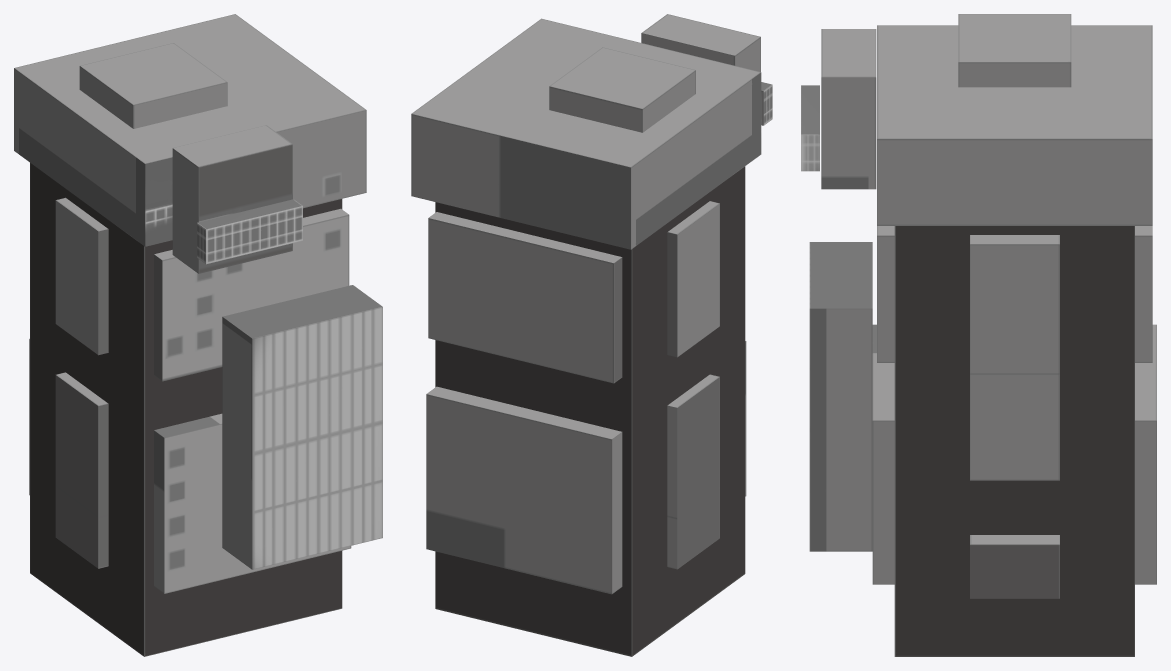
File: blok5.fbx
3 renders of one model, left to right at view 1: azimuth 30°, elevation 25°; view 2: azimuth 150°, elevation 25°; view 3: azimuth 270°, elevation 25°, orthographic. The views are drawn at different scales.
Parts seen in each view (by area): view 1: blok6:pCube1, blok6:pCube10, blok6:pCube4, blok6:pCube5, blok6:pCube6, blok6:pCube8, blok6:pCube3, blok6:pCube7, blok6:pCube2, blok6:pCube9; view 2: blok6:pCube1, blok6:pCube4, blok6:pCube6, blok6:pCube5, blok6:pCube3, blok6:pCube7, blok6:pCube2, blok6:pCube8; view 3: blok6:pCube1, blok6:pCube4, blok6:pCube2, blok6:pCube10, blok6:pCube6, blok6:pCube8, blok6:pCube7, blok6:pCube3, blok6:pCube5, blok6:pCube9.
Boxes of the visible parts, box(x1,y1,x2,y2) form: blok6:pCube1: box(30, 163, 342, 656); blok6:pCube10: box(222, 285, 382, 569); blok6:pCube4: box(14, 14, 366, 246); blok6:pCube5: box(154, 208, 349, 381); blok6:pCube6: box(29, 338, 351, 593); blok6:pCube8: box(172, 125, 292, 273); blok6:pCube3: box(55, 372, 108, 568); blok6:pCube7: box(79, 43, 227, 128); blok6:pCube2: box(55, 197, 108, 355); blok6:pCube9: box(197, 199, 302, 264); blok6:pCube1: box(435, 166, 745, 656); blok6:pCube4: box(411, 18, 761, 249); blok6:pCube6: box(426, 341, 746, 594); blok6:pCube5: box(428, 212, 622, 383); blok6:pCube3: box(667, 374, 719, 569); blok6:pCube7: box(549, 47, 695, 132); blok6:pCube2: box(667, 201, 719, 357); blok6:pCube8: box(641, 14, 760, 71); blok6:pCube1: box(894, 226, 1134, 656); blok6:pCube4: box(877, 25, 1152, 225); blok6:pCube2: box(970, 235, 1059, 480); blok6:pCube10: box(809, 242, 872, 551); blok6:pCube6: box(872, 324, 1156, 584); blok6:pCube8: box(821, 29, 876, 189); blok6:pCube7: box(958, 14, 1071, 87); blok6:pCube3: box(970, 535, 1059, 598); blok6:pCube5: box(877, 226, 1152, 362); blok6:pCube9: box(801, 85, 819, 171).
Size of the model in its own units: 14.35 by 31.76 by 18.58.
1 material, 1 textured.
